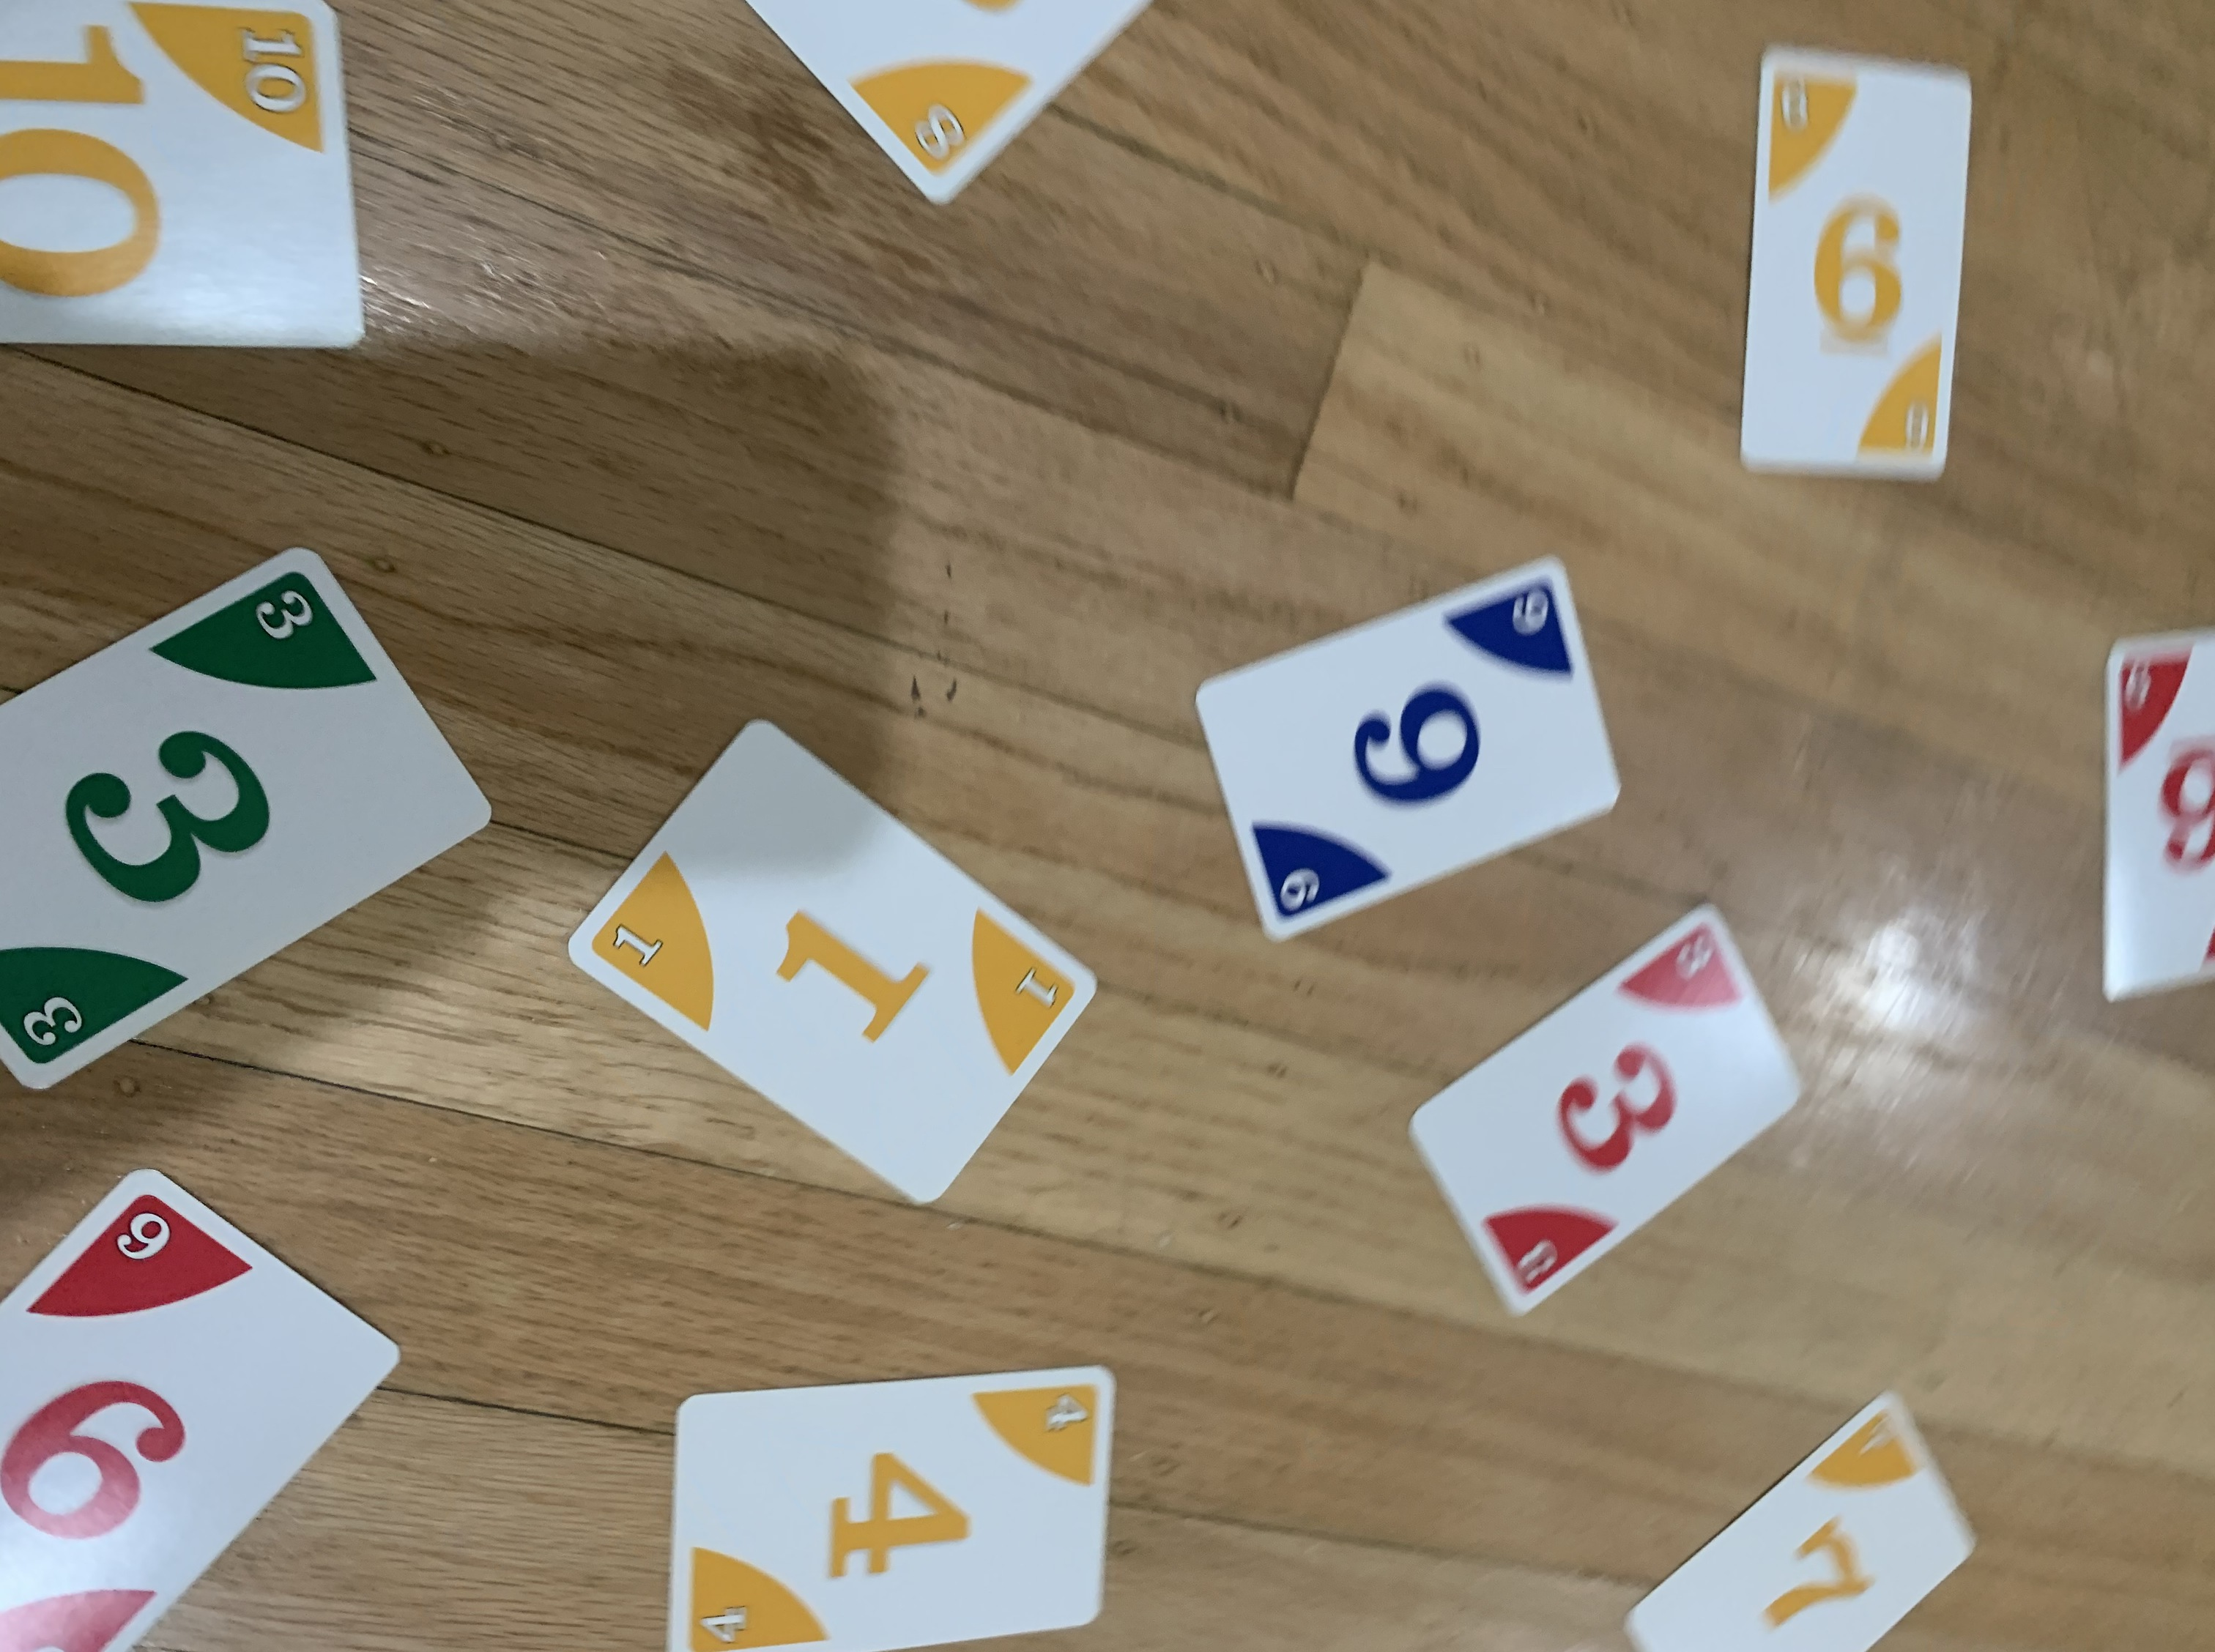four: (627, 1341, 1135, 1647)
nine: (1186, 545, 1627, 953)
one: (552, 703, 1107, 1216)
seven: (1618, 1381, 1986, 1649)
six: (0, 1145, 406, 1647), (1731, 35, 1988, 495)
three: (0, 522, 498, 1102), (1397, 883, 1812, 1324)
